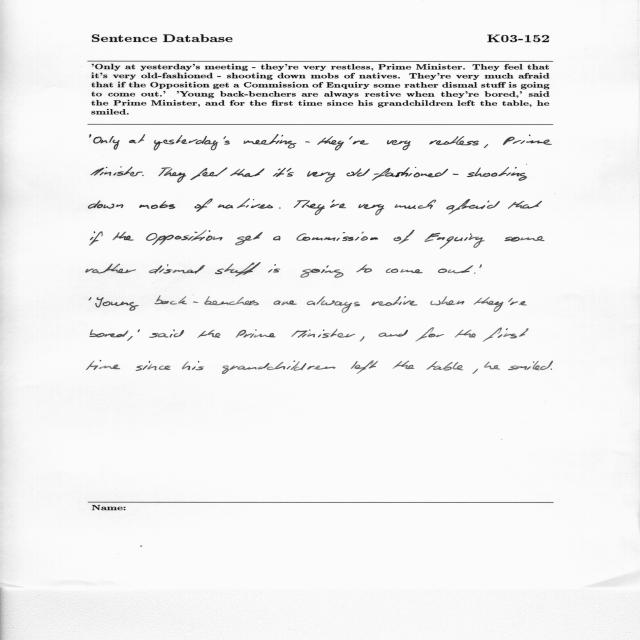word: (222, 361, 335, 374), (347, 167, 448, 181), (154, 135, 230, 150), (146, 230, 222, 245), (155, 296, 259, 306), (425, 233, 485, 249), (307, 296, 360, 313), (467, 167, 527, 181), (446, 199, 500, 214), (244, 134, 297, 149), (297, 232, 379, 241), (215, 262, 261, 277), (483, 327, 528, 342), (95, 297, 139, 311), (218, 198, 273, 209), (292, 329, 356, 338), (149, 264, 205, 274), (301, 265, 344, 278), (91, 167, 142, 177), (429, 136, 479, 146), (86, 264, 136, 274), (503, 135, 552, 145), (191, 167, 228, 180), (294, 200, 325, 215), (372, 296, 418, 306), (474, 297, 503, 312), (159, 167, 186, 183), (415, 328, 444, 342), (317, 136, 344, 151), (508, 361, 553, 370), (93, 136, 120, 150), (351, 360, 378, 374), (426, 361, 463, 371), (395, 200, 436, 209), (235, 232, 263, 245), (236, 329, 276, 338), (136, 361, 171, 371), (87, 360, 121, 370), (230, 168, 265, 177), (89, 200, 124, 209), (307, 171, 335, 182), (431, 297, 465, 306), (90, 330, 128, 338), (394, 230, 415, 244), (139, 201, 175, 209), (358, 204, 384, 215), (438, 265, 473, 273), (508, 201, 542, 209), (194, 198, 213, 212), (505, 236, 545, 242), (158, 329, 184, 338), (387, 140, 410, 150), (378, 330, 408, 337), (182, 361, 204, 370), (90, 231, 103, 246), (113, 232, 134, 241), (386, 269, 423, 274), (198, 330, 221, 338), (349, 136, 369, 145), (393, 361, 414, 369), (455, 330, 475, 338), (127, 329, 140, 341), (508, 298, 527, 306), (129, 135, 145, 144), (356, 264, 372, 273), (330, 200, 346, 208), (484, 362, 500, 370), (273, 301, 297, 306), (273, 168, 286, 177), (268, 264, 280, 273), (287, 168, 294, 177), (149, 333, 159, 338), (273, 236, 281, 240), (472, 369, 478, 374), (360, 336, 365, 341), (484, 144, 488, 148), (479, 264, 482, 268), (305, 141, 310, 143), (90, 134, 92, 138), (89, 297, 91, 301), (453, 174, 459, 175), (279, 207, 281, 209), (142, 175, 144, 176), (474, 273, 476, 274), (551, 368, 552, 370)
